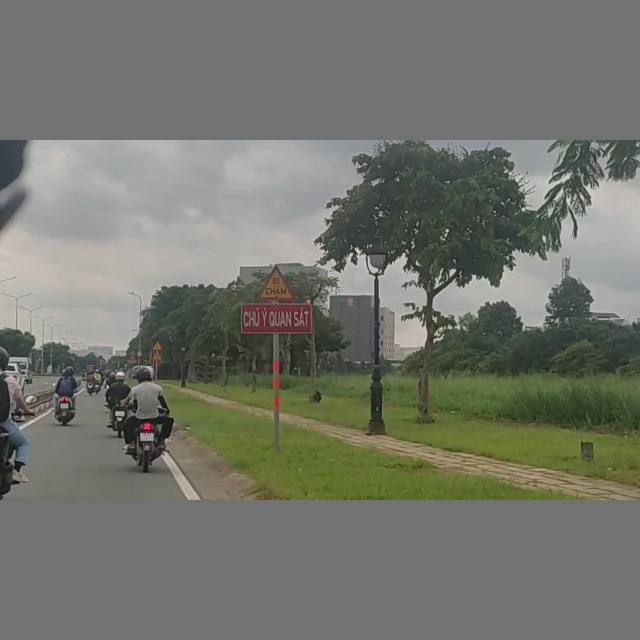W.207: (152, 339, 163, 349)
W.224: (151, 351, 163, 360)
W.245a: (258, 265, 294, 300)
